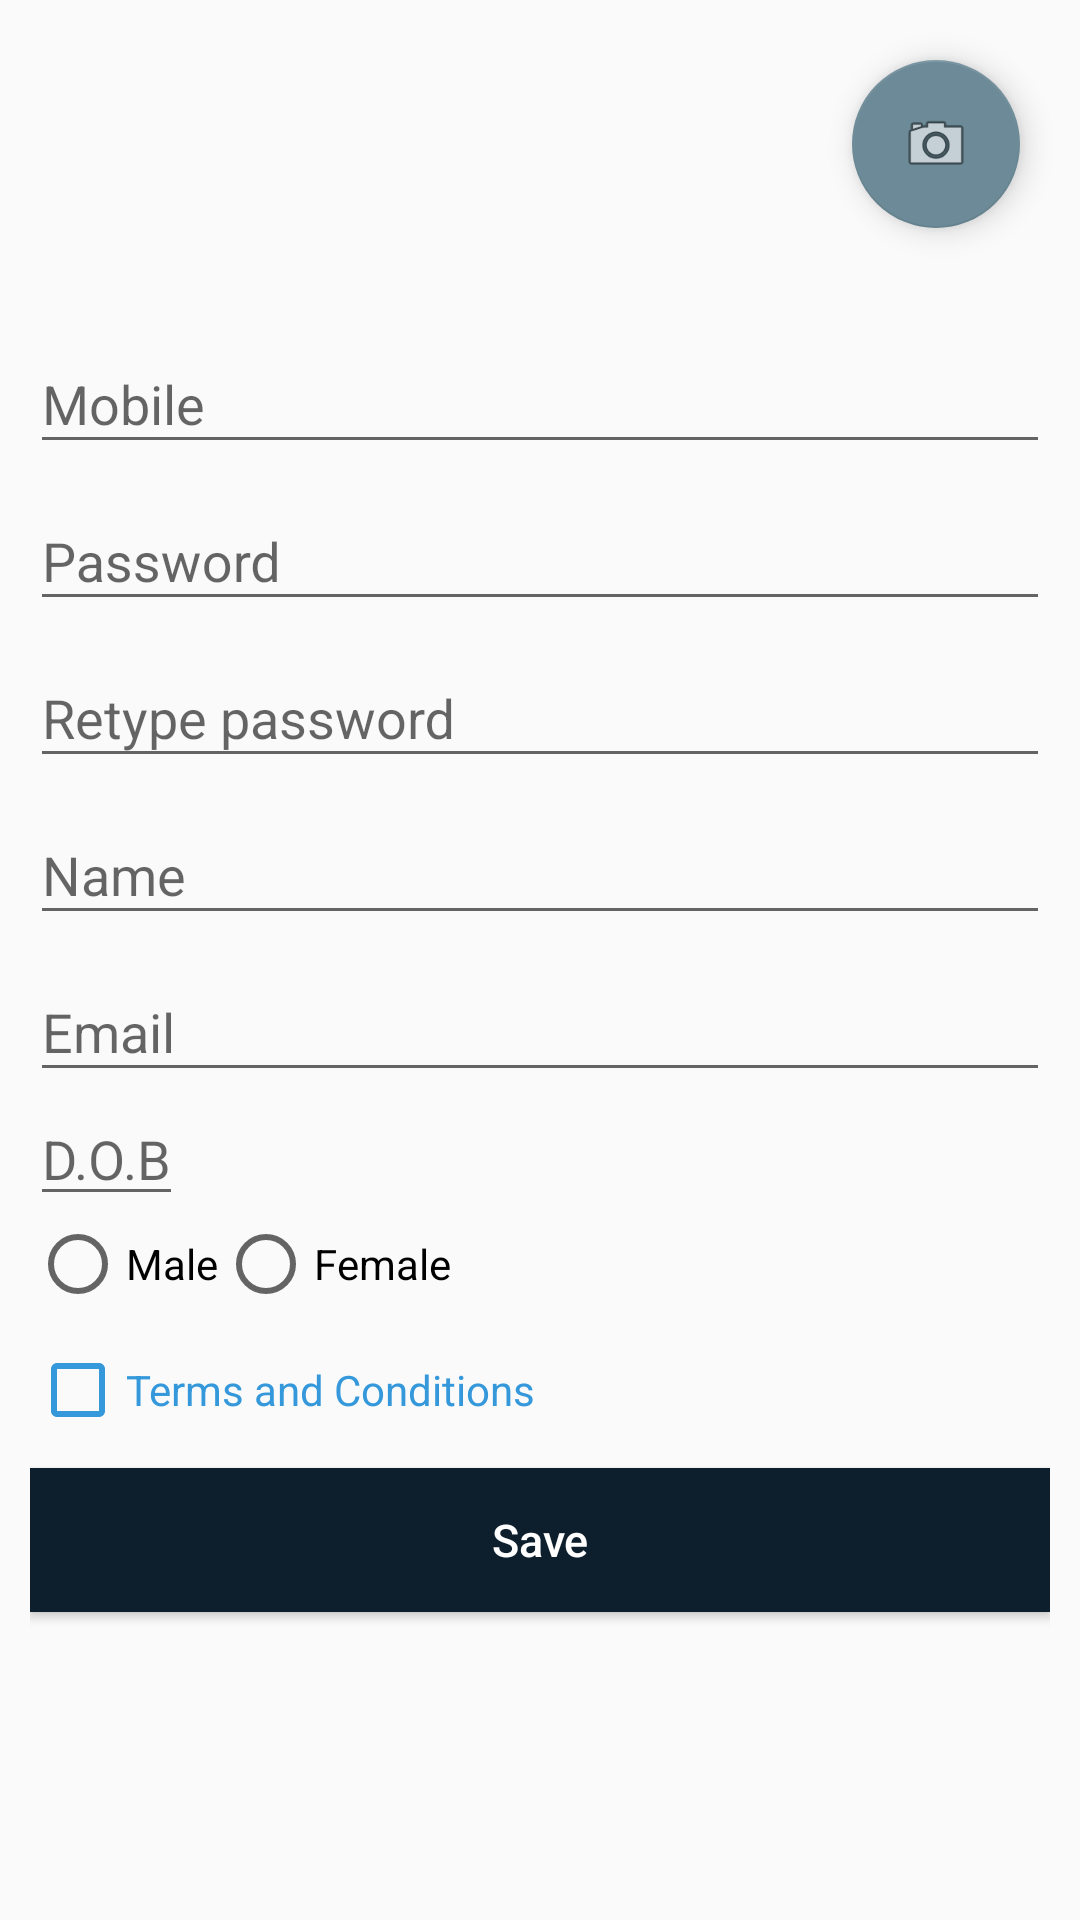

Screen size 1080×1920. Icon name, then its center in pixels as (x,y):
camera: (936,144)
